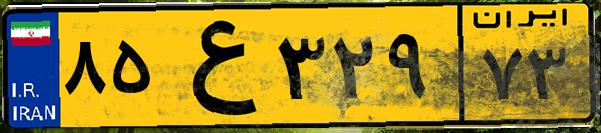2: (330, 28, 385, 110)
3: (270, 28, 330, 110), (525, 38, 570, 115)
5: (110, 28, 158, 98)
7: (475, 38, 525, 113)
8: (57, 26, 110, 100)
9: (385, 28, 445, 110)
ع: (158, 12, 270, 120)
